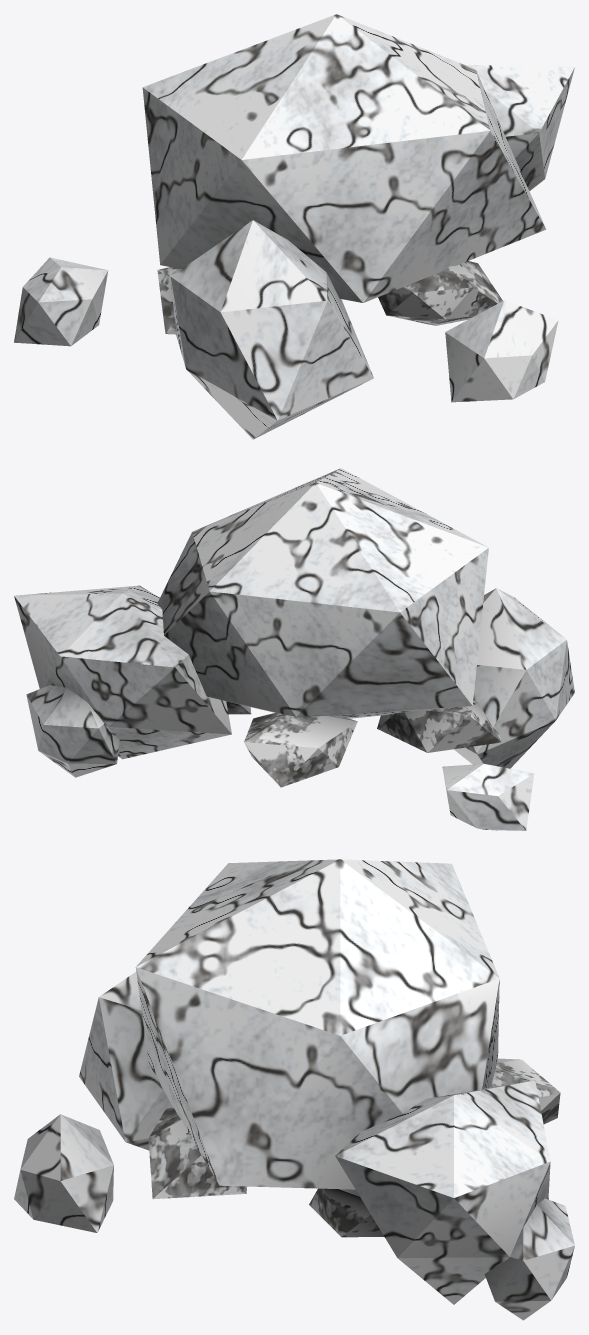
3 renders of one model, top to bottom at view 1: azimuth 30°, elevation 25°; view 2: azimuth 150°, elevation 25°; view 3: azimuth 270°, elevation 25°, orthographic. The views are drawn at different scales.
Visible parts, largest first — view 1: rock_M_rock, rock_M_rock_dark, rock_M_leaf_dark; view 2: rock_M_rock, rock_M_rock_dark, rock_M_leaf_dark; view 3: rock_M_rock, rock_M_rock_dark, rock_M_leaf_dark.
Part boxes in pixels (bbox=[...]): rock_M_rock: bbox=[142, 14, 546, 302]; rock_M_rock_dark: bbox=[14, 64, 574, 439]; rock_M_leaf_dark: bbox=[157, 261, 502, 334]; rock_M_rock: bbox=[157, 468, 488, 718]; rock_M_rock_dark: bbox=[14, 585, 574, 830]; rock_M_leaf_dark: bbox=[226, 700, 501, 787]; rock_M_rock: bbox=[135, 859, 499, 1189]; rock_M_rock_dark: bbox=[14, 972, 574, 1320]; rock_M_leaf_dark: bbox=[148, 1058, 560, 1237].
Size of the model in its own units: 2.43 by 1.42 by 1.85.
Materials: 3 (3 with a texture image).
